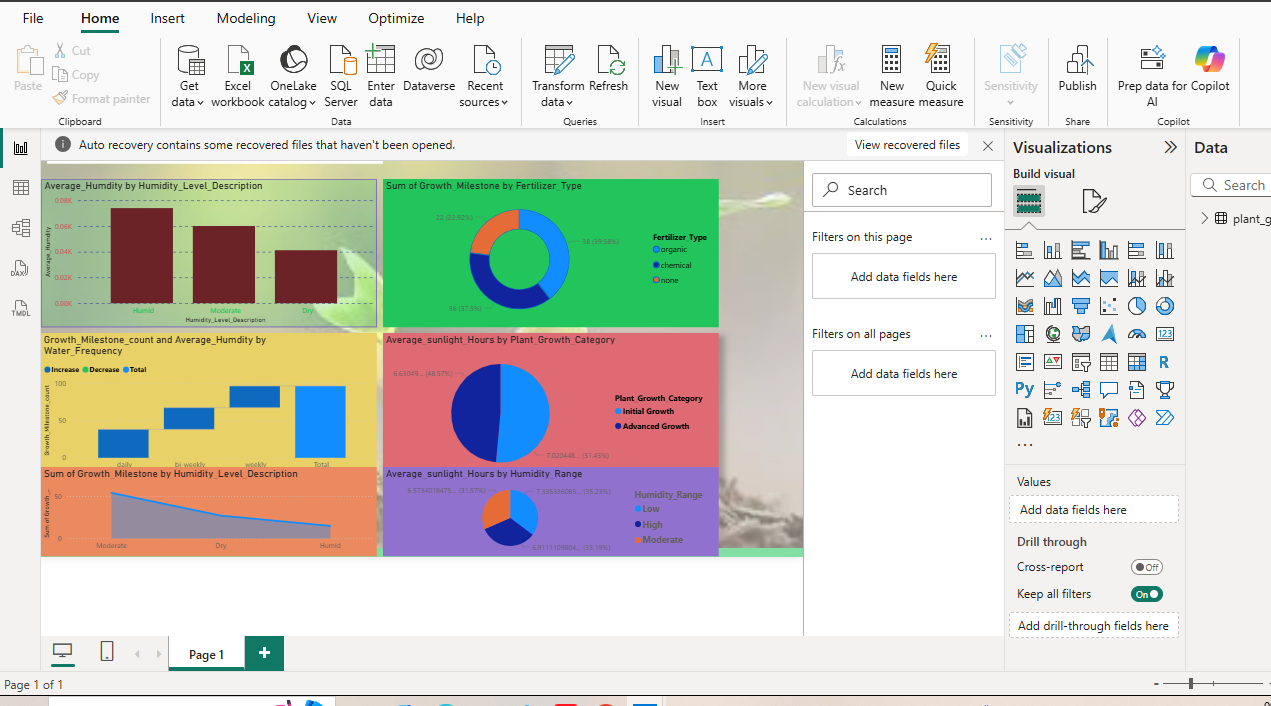

Layout of this report page (visuals, bound fields, positions):
{"tool":"powerbi","page":{"name":"Page 1","canvas":[1280,720],"ordinal":0},"visuals":[{"type":"textbox","box":[10.1,0,564.4,60.5],"z":0},{"type":"columnChart","title":"Average_Humdity by Humidity_Level_Description","fields":{"Y":["plant_growth_data.Average_Humdity"],"Category":["plant_growth_data.Humidity_Level_Description"]},"box":[0,85.7,564.4,248.6],"z":1000},{"type":"donutChart","fields":{"Y":["Sum(plant_growth_data.Growth_Milestone)"],"Category":["plant_growth_data.Fertilizer_Type"]},"box":[574.4,85.7,564.4,248.6],"z":2000},{"type":"pieChart","fields":{"Y":["plant_growth_data.Average_sunlight_Hours"],"Category":["plant_growth_data.Plant_Growth_Category"]},"box":[574.4,344.3,564.4,248.6],"z":3000},{"type":"waterfallChart","fields":{"Y":["plant_growth_data.Growth_Milestone_count"],"Category":["plant_growth_data.Water_Frequency"]},"box":[0,344.3,564.4,248.6],"z":4000},{"type":"pieChart","fields":{"Y":["plant_growth_data.Average_sunlight_Hours"],"Category":["plant_growth_data.Humidity_Range"]},"box":[574.4,570,564.4,150],"z":5000},{"type":"areaChart","fields":{"Y":["Sum(plant_growth_data.Growth_Milestone)"],"Category":["plant_growth_data.Humidity_Level_Description"]},"box":[0,570,564.4,150],"z":6000}]}

Visuals, with their boxes on the page's 1280x720 design canvas (x1, y1, x2, y2). These are canvas units, not pixel positions in the 1271x706 screenshot, which may show the page scaled, cropped or inside an application window:
textbox: <box>10,0,574,60</box>
"Average_Humdity by Humidity_Level_Description" columnChart: <box>0,86,564,334</box>
donutChart - Sum(plant_growth_data.Growth_Milestone) x plant_growth_data.Fertilizer_Type: <box>574,86,1139,334</box>
pieChart - plant_growth_data.Average_sunlight_Hours x plant_growth_data.Plant_Growth_Category: <box>574,344,1139,593</box>
waterfallChart - plant_growth_data.Growth_Milestone_count x plant_growth_data.Water_Frequency: <box>0,344,564,593</box>
pieChart - plant_growth_data.Average_sunlight_Hours x plant_growth_data.Humidity_Range: <box>574,570,1139,720</box>
areaChart - Sum(plant_growth_data.Growth_Milestone) x plant_growth_data.Humidity_Level_Description: <box>0,570,564,720</box>
